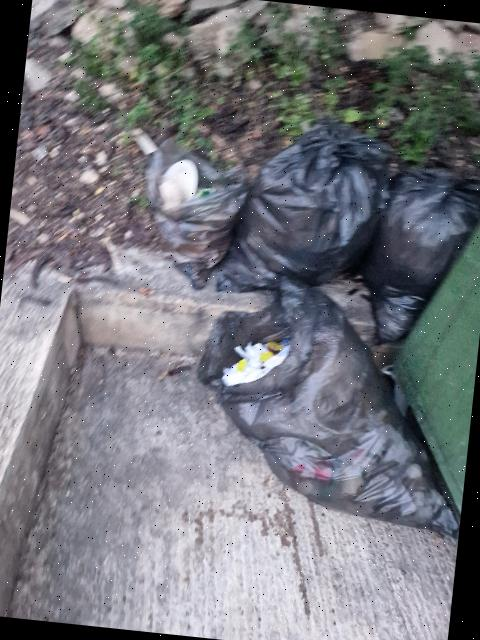Recyclable -Grey-: (198, 281, 458, 536), (216, 119, 391, 292), (361, 168, 480, 343), (146, 140, 249, 287)
